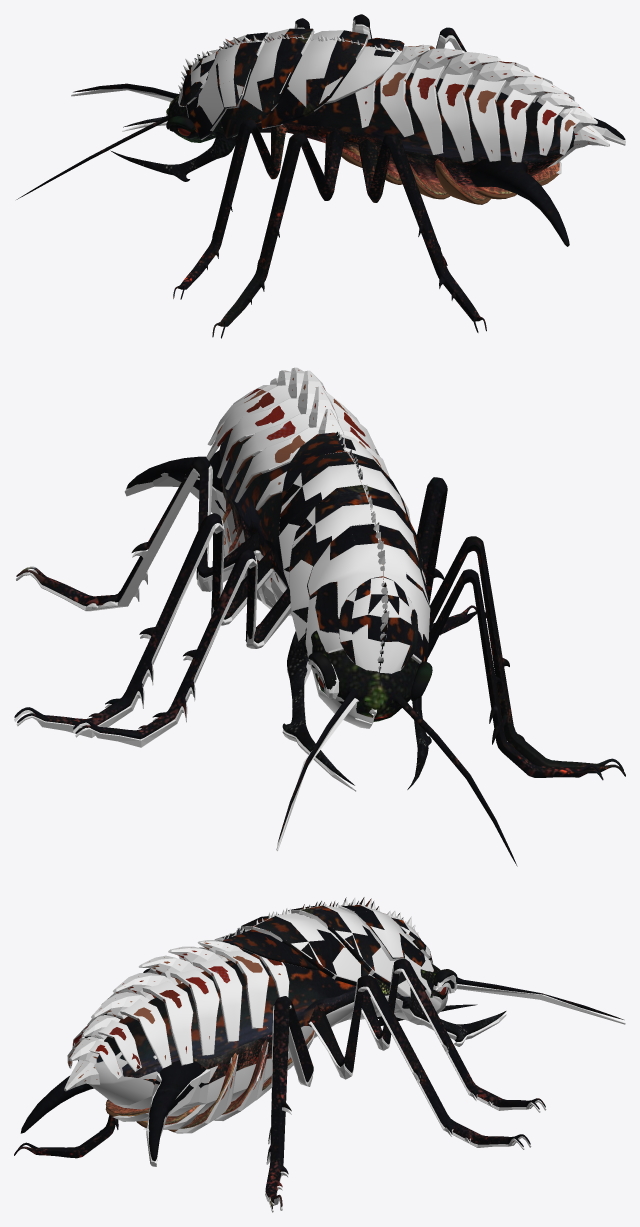
The model's file is Cockroach_red.fbx.
3 views of the same model, one above another, from view 1: azimuth 30°, elevation 25°; view 2: azimuth 150°, elevation 25°; view 3: azimuth 270°, elevation 25° (orthographic). The views are drawn at different scales.
Parts seen in each view (by area): view 1: default, Object011, default004, Box018, Box007, default001, Box012, Box005, Box004, default002, Box020; view 2: default, default004, Box004, Object011, Box022, Box023, Box018, Box024, default001, Box021, Box020, Box005 (+1 smaller); view 3: default, Object011, Box004, default004, default001, Box024, Box022, Box023.
Boxes of the visible parts, x1,y1,x2,y2 form: default: (16, 14, 625, 338); Object011: (355, 44, 609, 162); default004: (180, 28, 404, 139); Box018: (186, 35, 264, 139); Box007: (262, 35, 365, 128); default001: (357, 45, 604, 156); Box012: (325, 44, 401, 103); Box005: (232, 34, 310, 137); Box004: (71, 20, 625, 174); default002: (341, 152, 558, 204); Box020: (178, 51, 215, 106); default: (14, 433, 625, 866); default004: (279, 431, 430, 672); Box004: (14, 465, 376, 850); Object011: (206, 367, 389, 510); Box022: (305, 522, 383, 669); Box023: (289, 484, 371, 641); Box018: (373, 522, 430, 663); Box024: (278, 451, 361, 588); default001: (213, 370, 381, 502); Box021: (339, 576, 384, 672); Box020: (377, 577, 414, 673); Box005: (363, 484, 422, 560); default: (14, 950, 623, 1208); Object011: (64, 940, 289, 1091); Box004: (89, 965, 625, 1212); default004: (222, 897, 434, 997); default001: (68, 941, 282, 1081); Box024: (252, 913, 374, 981); Box022: (338, 904, 433, 997); Box023: (299, 905, 410, 997).
Size of the model in its own units: 126 by 58.32 by 129.
